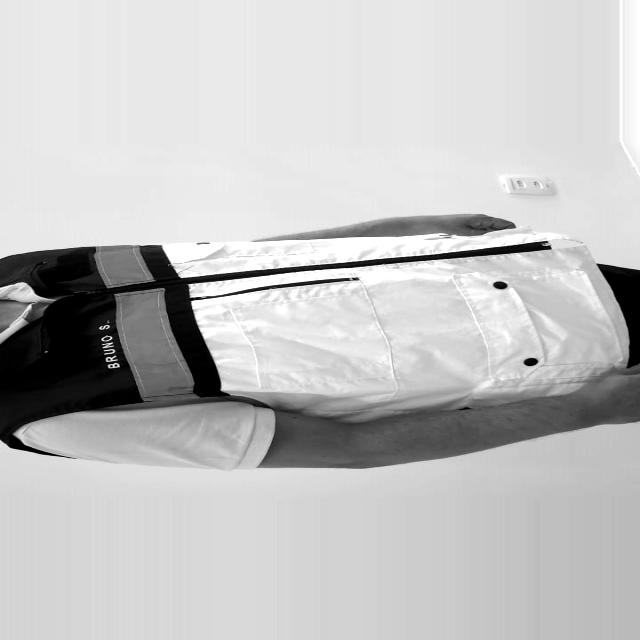Vest: (2, 238, 594, 400)
